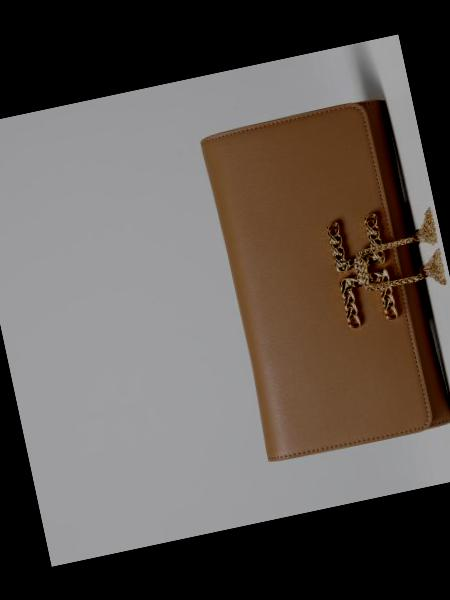ELISABETTA-FRANCHI: (314, 200, 410, 334)
